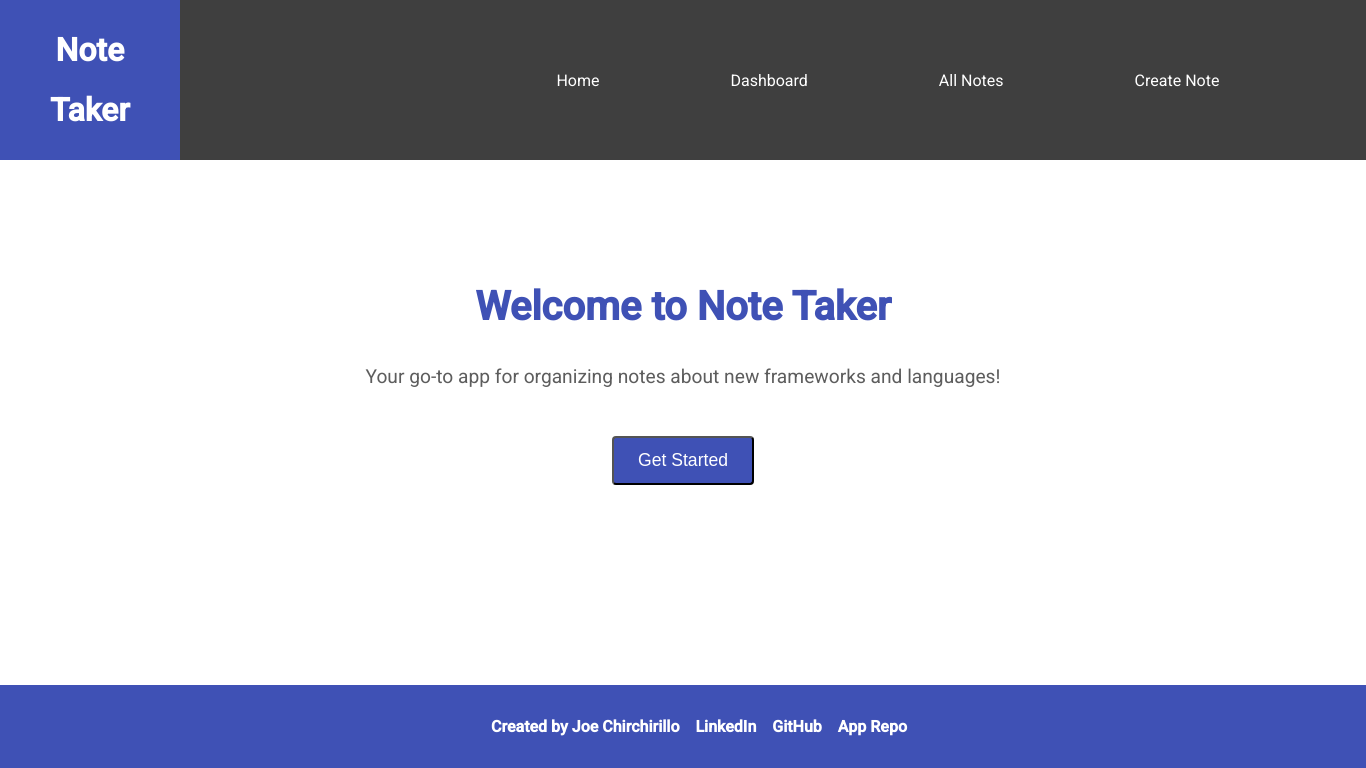
Sad Paths › displays error message for failure loading note count
What coordinates should you click on to do the following:
click the button with class "cta-button"
I would click on:
 (683, 461)
Its box is [612, 436, 754, 485].
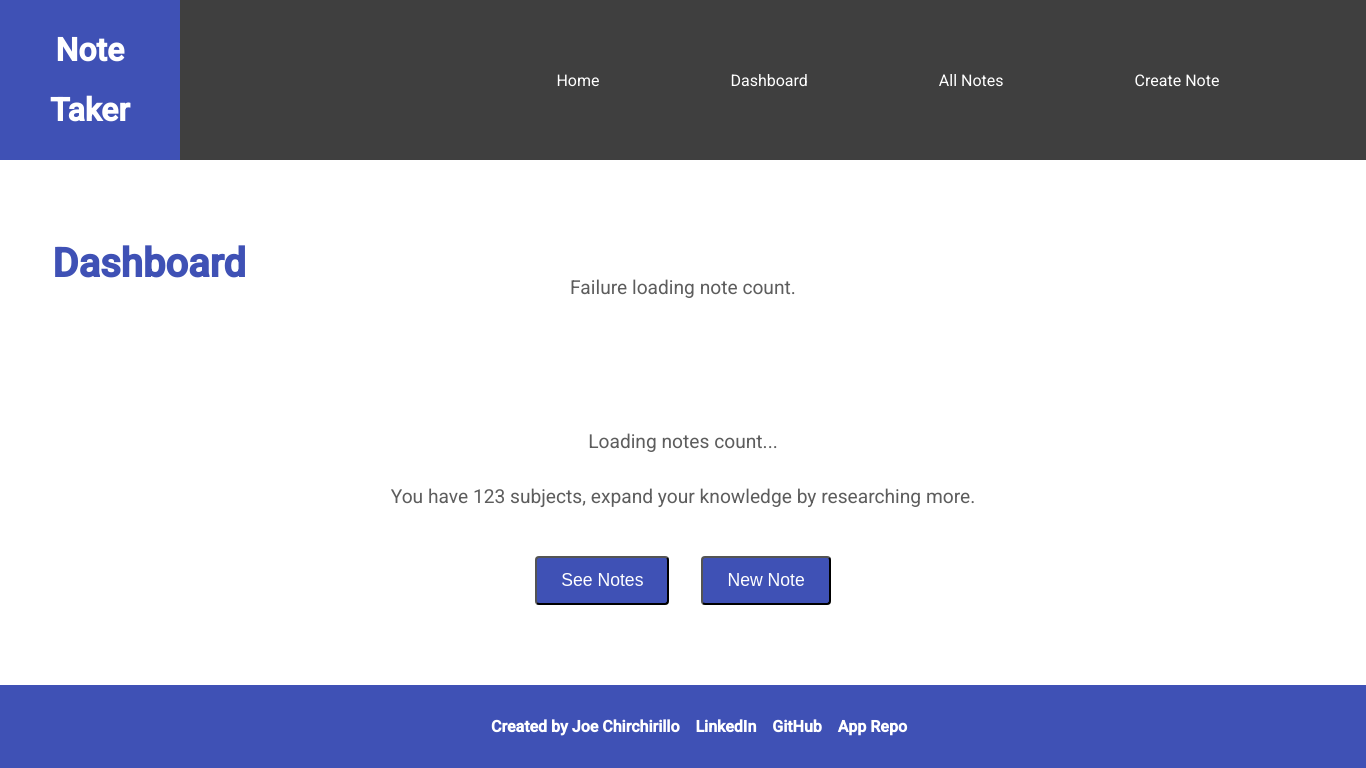
Check: the text "Failure loading note count." is shown, box [570, 276, 796, 298]
Check: the text with class "error-message" reads "Failure loading note count.", box [570, 276, 796, 299]
